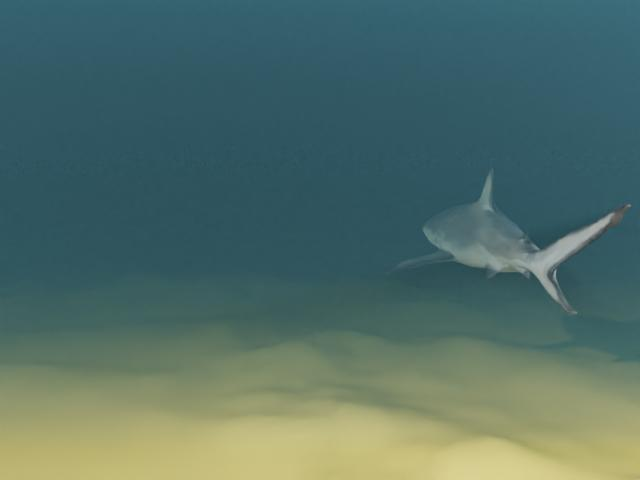Carribean Shark.001: (382, 167, 630, 314)
